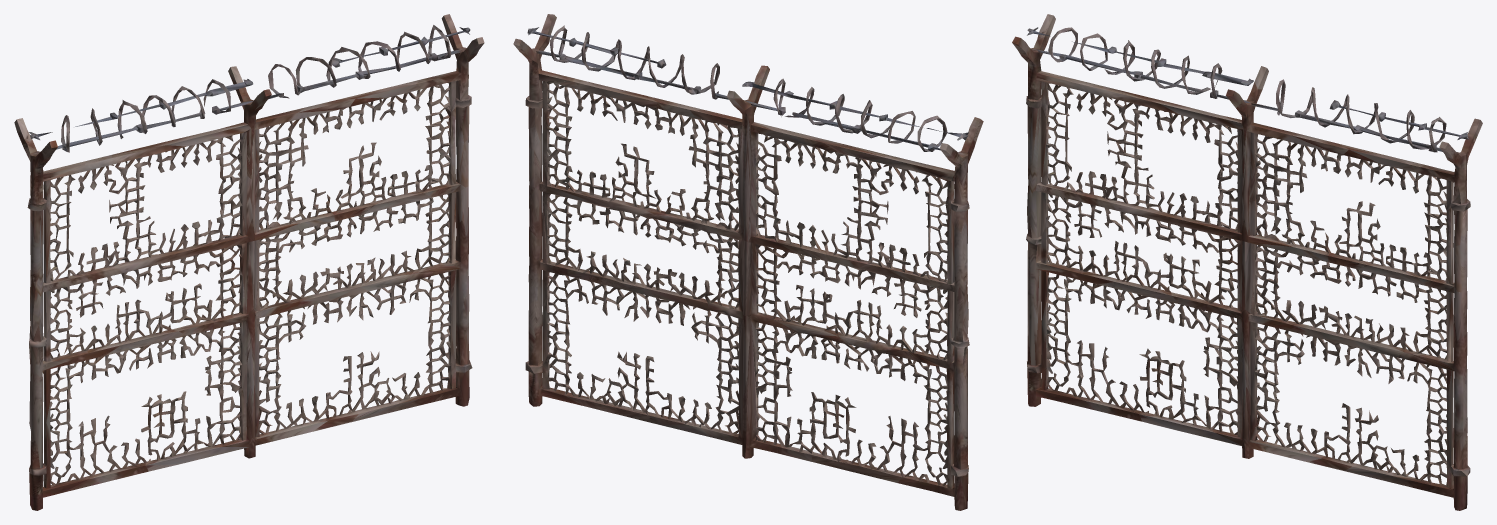
The model's file is prison_fence_wire_idle.glb.
3 renders of one model, left to right at view 1: azimuth 30°, elevation 25°; view 2: azimuth 150°, elevation 25°; view 3: azimuth 330°, elevation 25°, orthographic.
Visible parts, largest first — view 1: tripo_node_bd930dcc-fcc4-470f-bb0d-09fded06998f; view 2: tripo_node_bd930dcc-fcc4-470f-bb0d-09fded06998f; view 3: tripo_node_bd930dcc-fcc4-470f-bb0d-09fded06998f.
Part boxes in pixels (left/top/right/bottom): tripo_node_bd930dcc-fcc4-470f-bb0d-09fded06998f: left=14, top=14, right=484, bottom=510; tripo_node_bd930dcc-fcc4-470f-bb0d-09fded06998f: left=513, top=14, right=983, bottom=510; tripo_node_bd930dcc-fcc4-470f-bb0d-09fded06998f: left=1012, top=14, right=1482, bottom=510.
Size of the model in its own units: 3.6 by 2.99 by 0.5348.
Materials: 1 (1 with a texture image).
